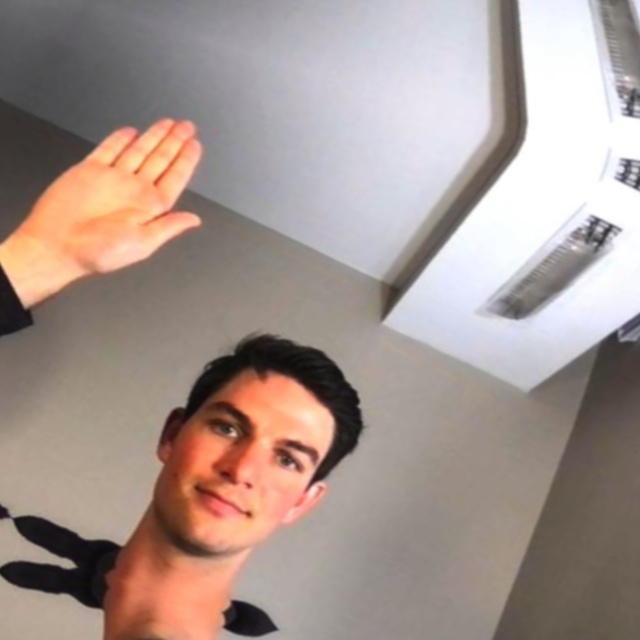Paper: (100, 0, 364, 3)
